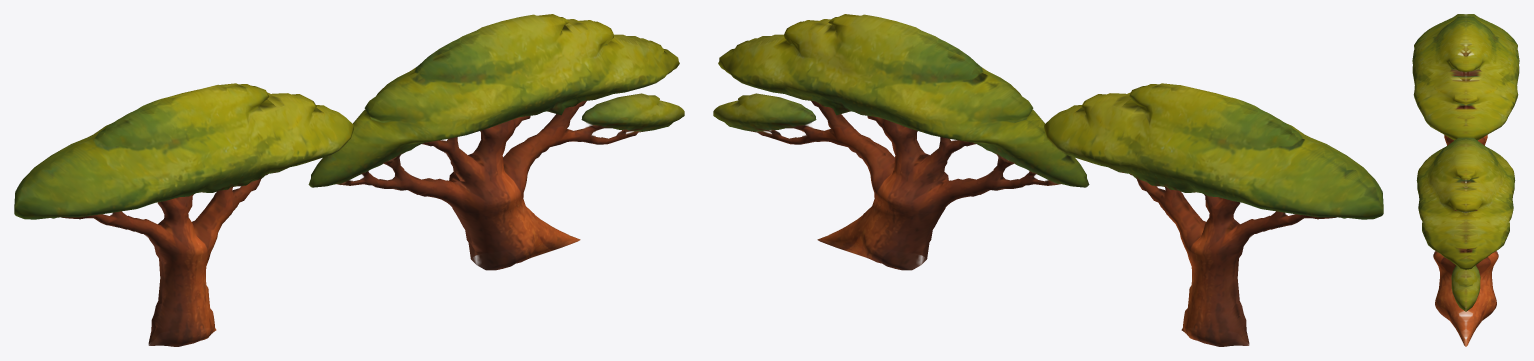
File: 02_acacia_trees_r00_c01.glb
3 views of the same model, side by side, from view 1: azimuth 30°, elevation 25°; view 2: azimuth 150°, elevation 25°; view 3: azimuth 270°, elevation 25° (orthographic). The views are drawn at different scales.
Parts seen in each view (by area): view 1: 02_acacia_trees_r00_c01; view 2: 02_acacia_trees_r00_c01; view 3: 02_acacia_trees_r00_c01.
Part boxes in pixels (left/top/right/bottom): 02_acacia_trees_r00_c01: left=14, top=14, right=684, bottom=346; 02_acacia_trees_r00_c01: left=713, top=14, right=1383, bottom=346; 02_acacia_trees_r00_c01: left=1412, top=14, right=1519, bottom=346.
Bounding box in the file's own units: 10.54 × 3.64 × 2.
1 material, 1 textured.
